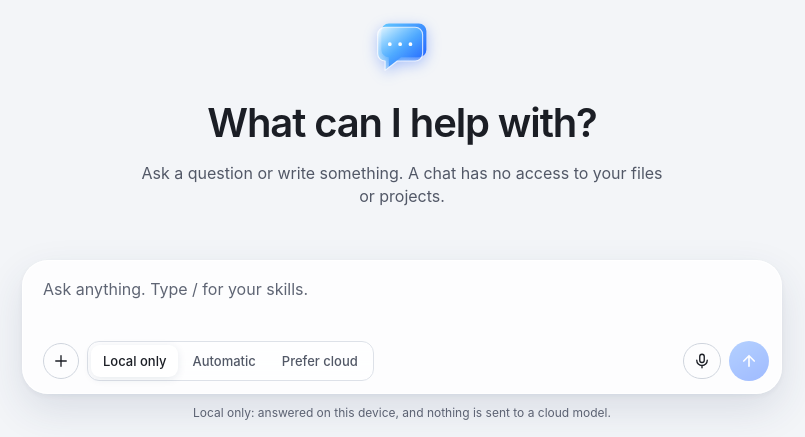
Test case: ChatView › makes a chat for the first message, runs it with no tools, and shows the answer
This screenshot has width=805, height=437.
Expected: the heading "What can I help with?" is shown, [207,94,597,152]
Type "What is a bora?" into the text box named "Message". click: (406, 303)
box: [43,277,769,329]
Then press Enter
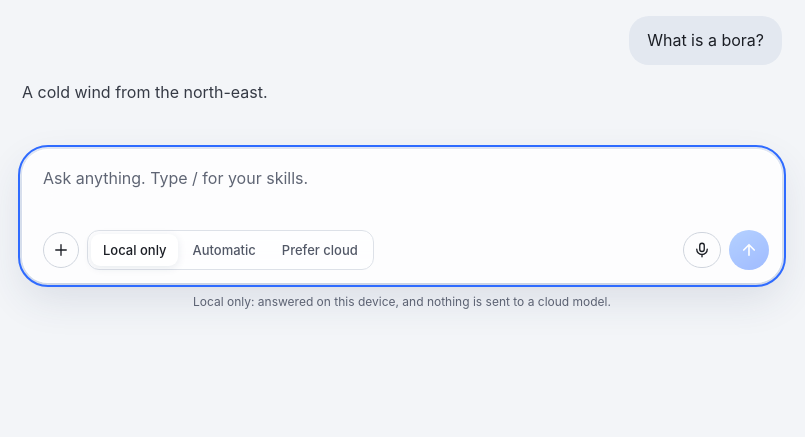
Expected: the text box named "Message" is empty, [43,166,769,218]
Expected: the text "What is a bora?" is shown, [629,16,782,65]
Expected: the text named "Live answer" shows "A cold wind", [22,82,268,102]
